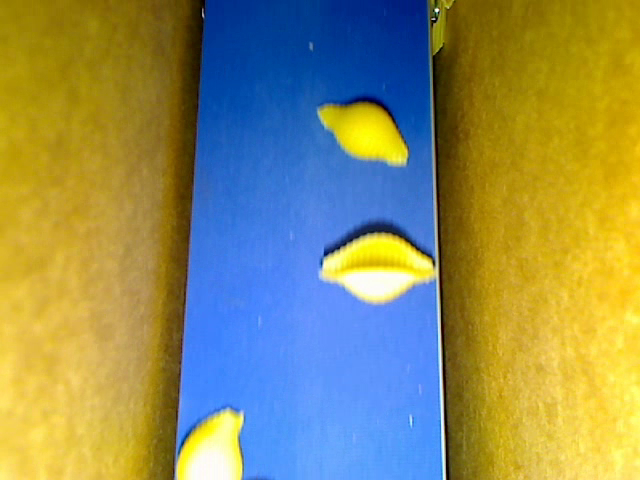penne: (430, 1, 445, 61), (436, 1, 458, 13)
shell: (316, 227, 436, 307), (316, 101, 408, 169), (170, 404, 245, 479)
